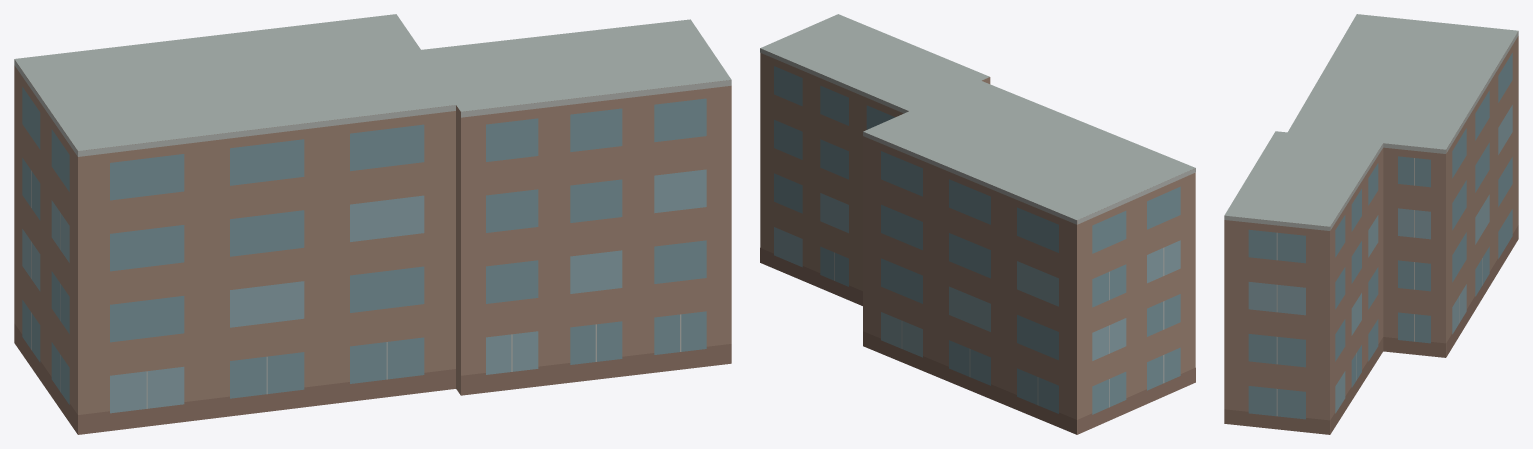
Rendered from survey-upis-32640756.glb.
3 renders of one model, left to right at view 1: azimuth 30°, elevation 25°; view 2: azimuth 150°, elevation 25°; view 3: azimuth 270°, elevation 25°, orthographic. The views are drawn at different scales.
Visible parts, largest first — view 1: survey-upis-32640756.tmp; view 2: survey-upis-32640756.tmp; view 3: survey-upis-32640756.tmp.
Boxes of the visible parts, x1,y1,x2,y2 form: survey-upis-32640756.tmp: (14,14,731,434); survey-upis-32640756.tmp: (760,14,1195,434); survey-upis-32640756.tmp: (1224,14,1518,434).
Bounding box in the file's own units: 25.66 × 11.7 × 15.01.
